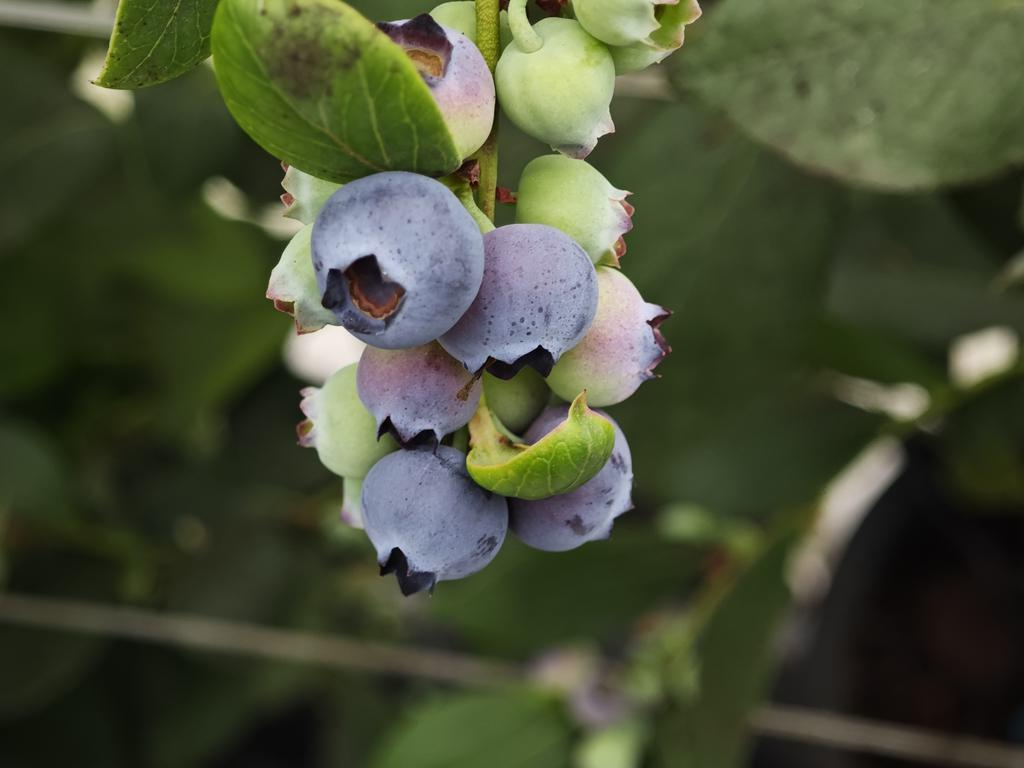RipeBlueBerry: (312, 172, 478, 343), (460, 226, 600, 378), (356, 449, 512, 583)
